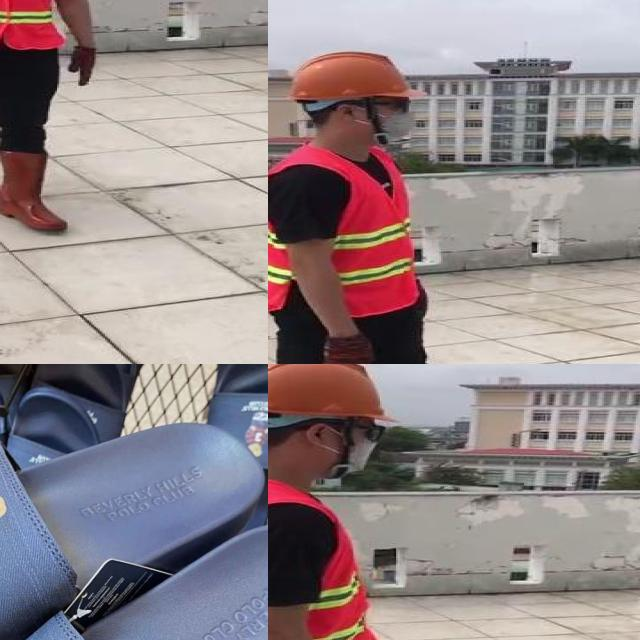Sandals: (0, 387, 268, 640)
boots: (0, 150, 67, 231)
face_mask: (361, 94, 423, 142)
glasses: (379, 95, 414, 114)
hand_glove: (320, 337, 375, 364), (66, 46, 96, 87), (422, 283, 432, 313)
head_helmet: (268, 364, 398, 424), (284, 50, 428, 104)
person: (268, 47, 538, 364), (268, 364, 406, 640), (0, 0, 105, 240)
vest: (268, 152, 418, 315), (268, 472, 381, 640)
